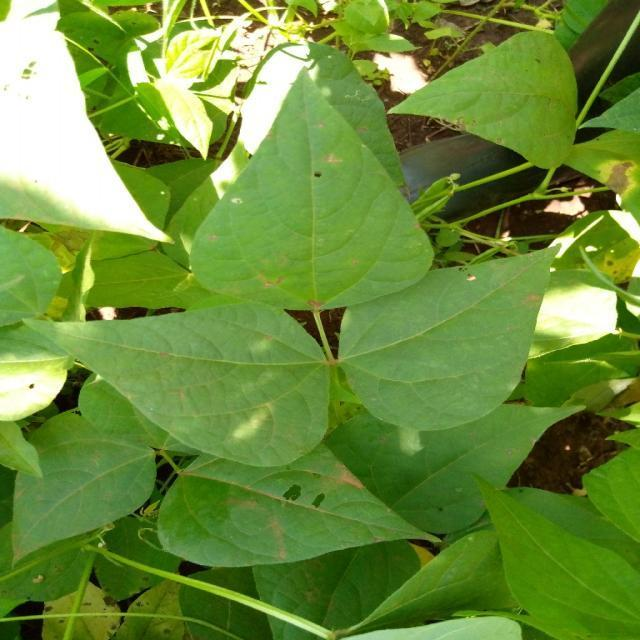hawar: (239, 462, 387, 576), (460, 259, 547, 385), (309, 145, 378, 223)
mozaik: (143, 335, 314, 435), (380, 285, 459, 423)
